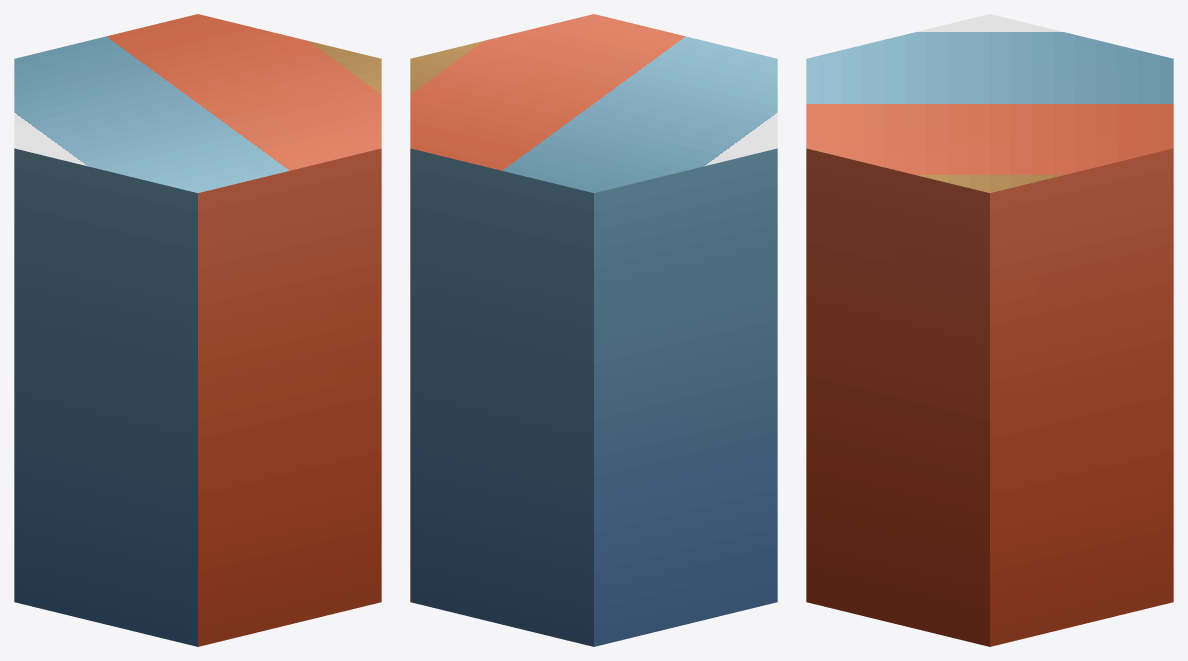
File: Prop_PuzzleCage_Collision.glb
3 renders of one model, left to right at view 1: azimuth 30°, elevation 25°; view 2: azimuth 150°, elevation 25°; view 3: azimuth 270°, elevation 25°, orthographic.
Visible parts, largest first — view 1: Prop_PuzzleCage_Collision; view 2: Prop_PuzzleCage_Collision; view 3: Prop_PuzzleCage_Collision.
Part boxes in pixels (box(x1,y1,x2,y2)): Prop_PuzzleCage_Collision: box(14, 14, 381, 646); Prop_PuzzleCage_Collision: box(410, 14, 777, 646); Prop_PuzzleCage_Collision: box(806, 14, 1173, 646).
Bounding box in the file's own units: 1.43 × 1.69 × 1.24.
Materials: 1 (1 with a texture image).
